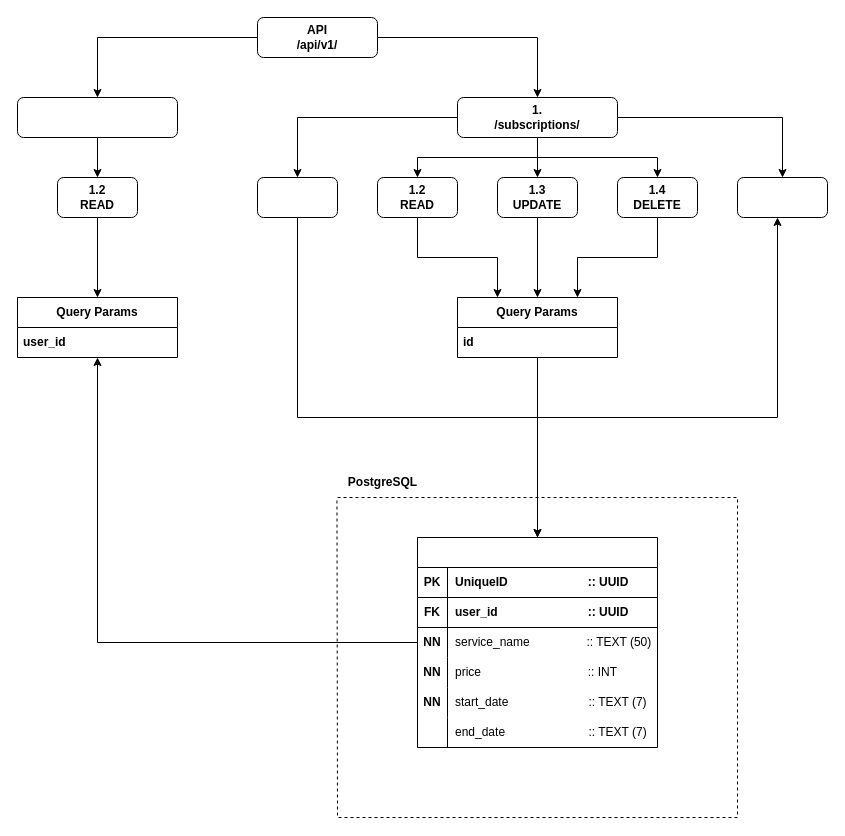
Some shapes in this 845 by 836 pixel diagram are drawn without their labels. The shapes that lost their labels are listed below. From the top down, each one's box as (x1, y1, x2, y2) in pixels, then its label:
(16, 96, 178, 138): 2. /calc-total-costs/
(256, 176, 338, 218): 1.1 CREATE
(736, 176, 828, 218): 1.5 LIST
(416, 536, 658, 748): UserSubscription
